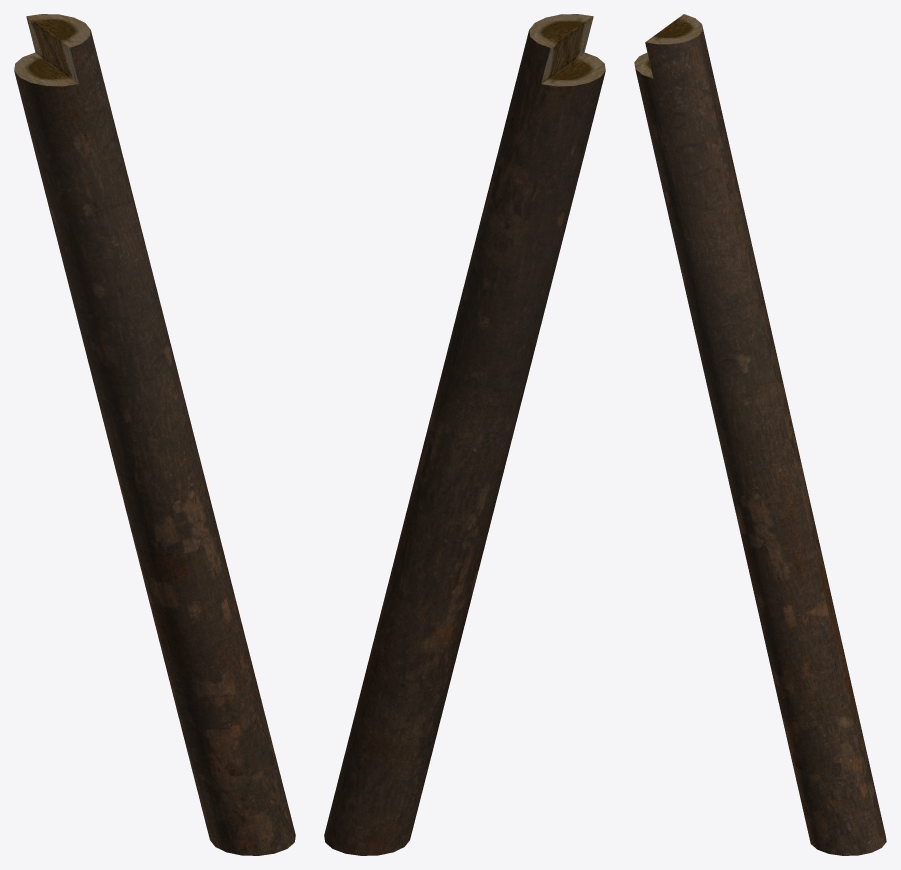
File: ThreeSupportAC.glb
The picture shows the model from 3 angles, left to right: view 1: azimuth 30°, elevation 25°; view 2: azimuth 150°, elevation 25°; view 3: azimuth 330°, elevation 25°; orthographic projection. The views are drawn at different scales.
Parts seen in each view (by area): view 1: ThreeSupportAC; view 2: ThreeSupportAC; view 3: ThreeSupportAC.
Part boxes in pixels (x1=…): ThreeSupportAC: x1=14, y1=14, x2=295, y2=855; ThreeSupportAC: x1=324, y1=14, x2=605, y2=855; ThreeSupportAC: x1=634, y1=14, x2=886, y2=855.
Bounding box in the file's own units: 0.7222 × 2.18 × 0.2.
1 material, 1 textured.
